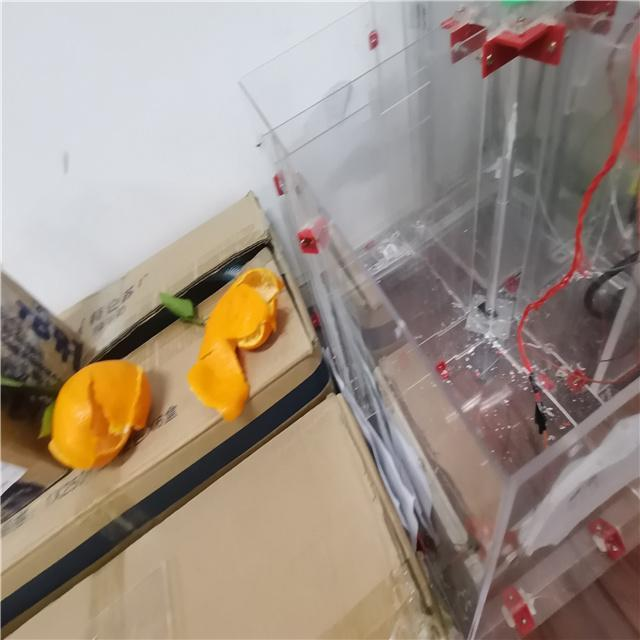orange-peel: (186, 266, 284, 422), (46, 358, 152, 470)
